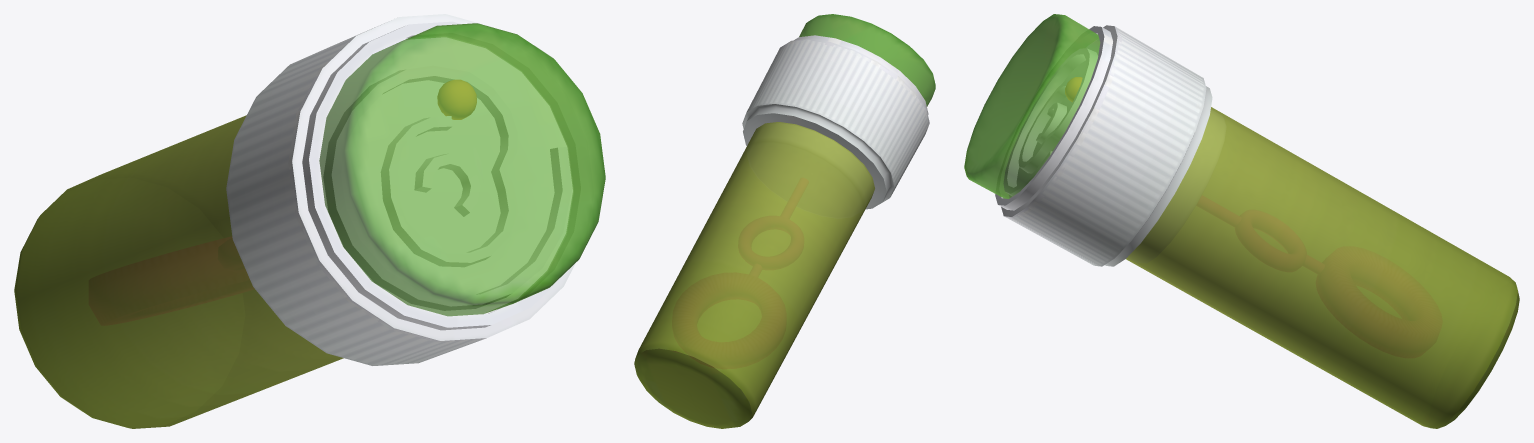
Rendered from GTBubbleWater.glb.
3 views of the same model, side by side, from view 1: azimuth 30°, elevation 25°; view 2: azimuth 150°, elevation 25°; view 3: azimuth 270°, elevation 25° (orthographic). The views are drawn at different scales.
Visible parts, largest first — view 1: paopaoshui, paopaoshui.002; view 2: paopaoshui, paopaoshui.002; view 3: paopaoshui, paopaoshui.002.
Boxes of the visible parts, x1,y1,x2,y2 form: paopaoshui: (14,14,605,428); paopaoshui.002: (14,116,343,428); paopaoshui: (634,14,935,428); paopaoshui.002: (634,122,874,428); paopaoshui: (964,14,1519,428); paopaoshui.002: (1126,107,1519,428).
Size of the model in its own units: 0.5801 by 1.15 by 1.46.
Materials: 4 (4 with a texture image).
